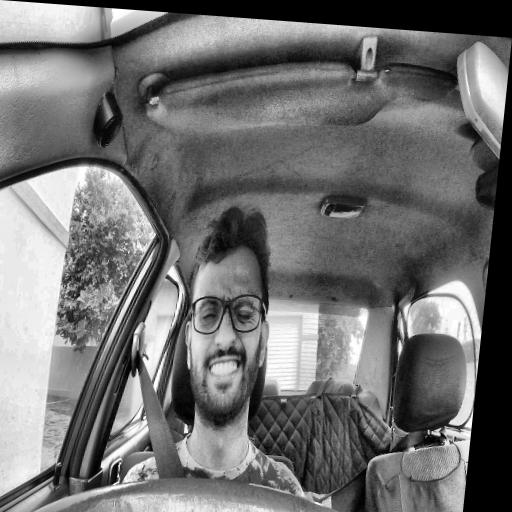drowsy: (174, 202, 281, 430)
